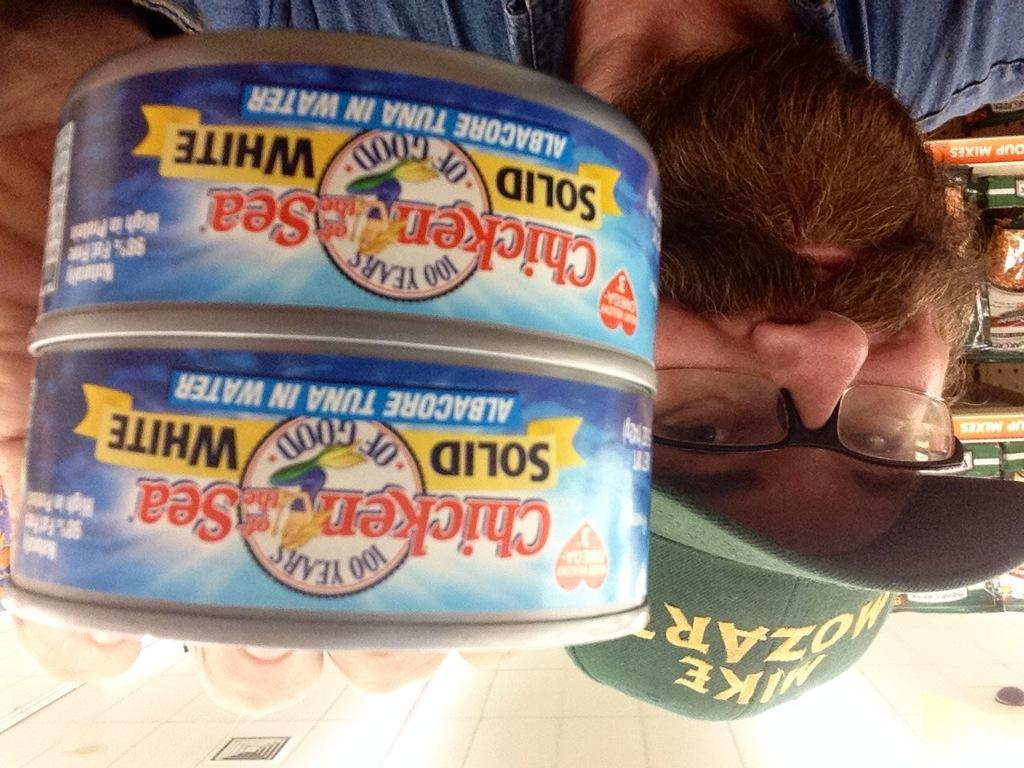Hat: (560, 482, 1022, 720)
